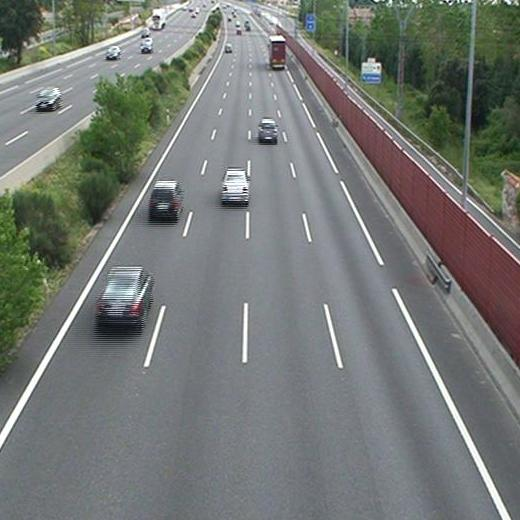car: (97, 267, 152, 319), (149, 182, 180, 216), (221, 170, 250, 200), (259, 119, 277, 139), (224, 44, 234, 54)
truck: (270, 37, 286, 68)
